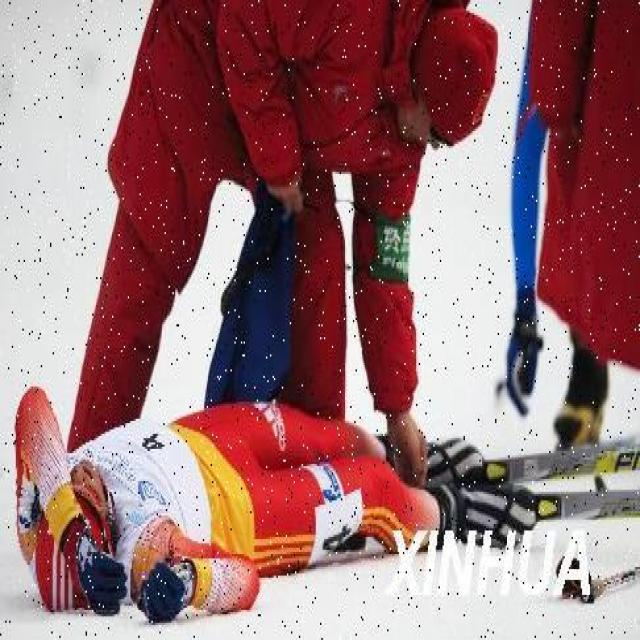fall: (18, 408, 490, 619)
